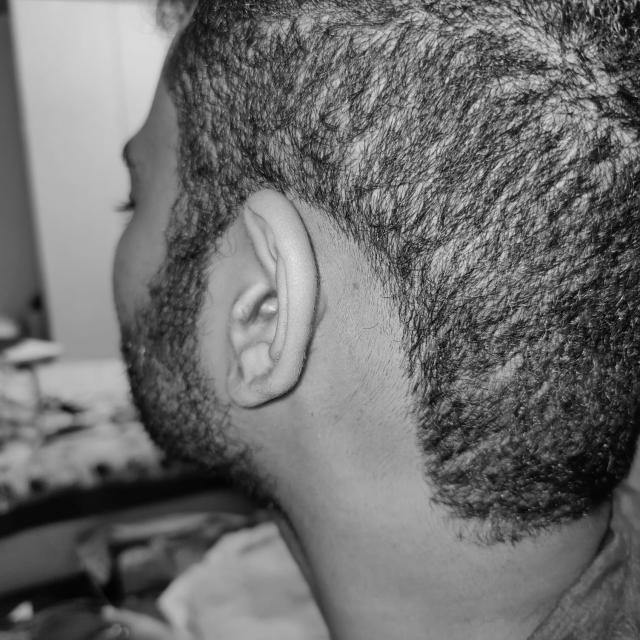ear: (226, 189, 317, 407)
